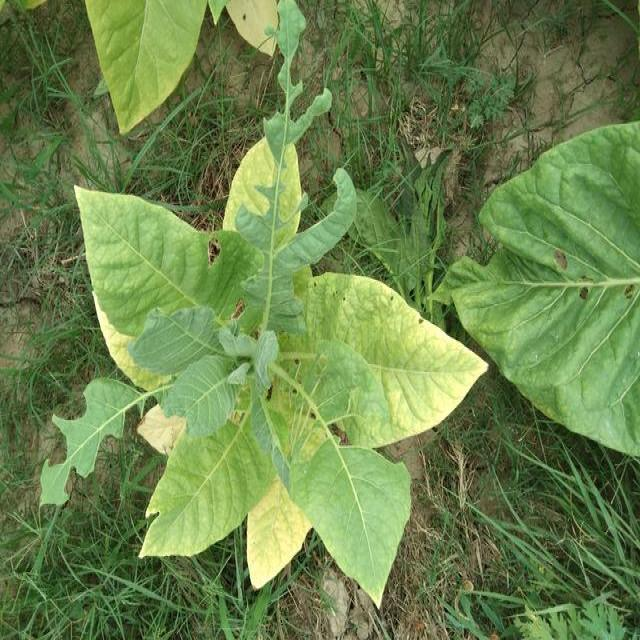crop: (70, 129, 490, 610)
